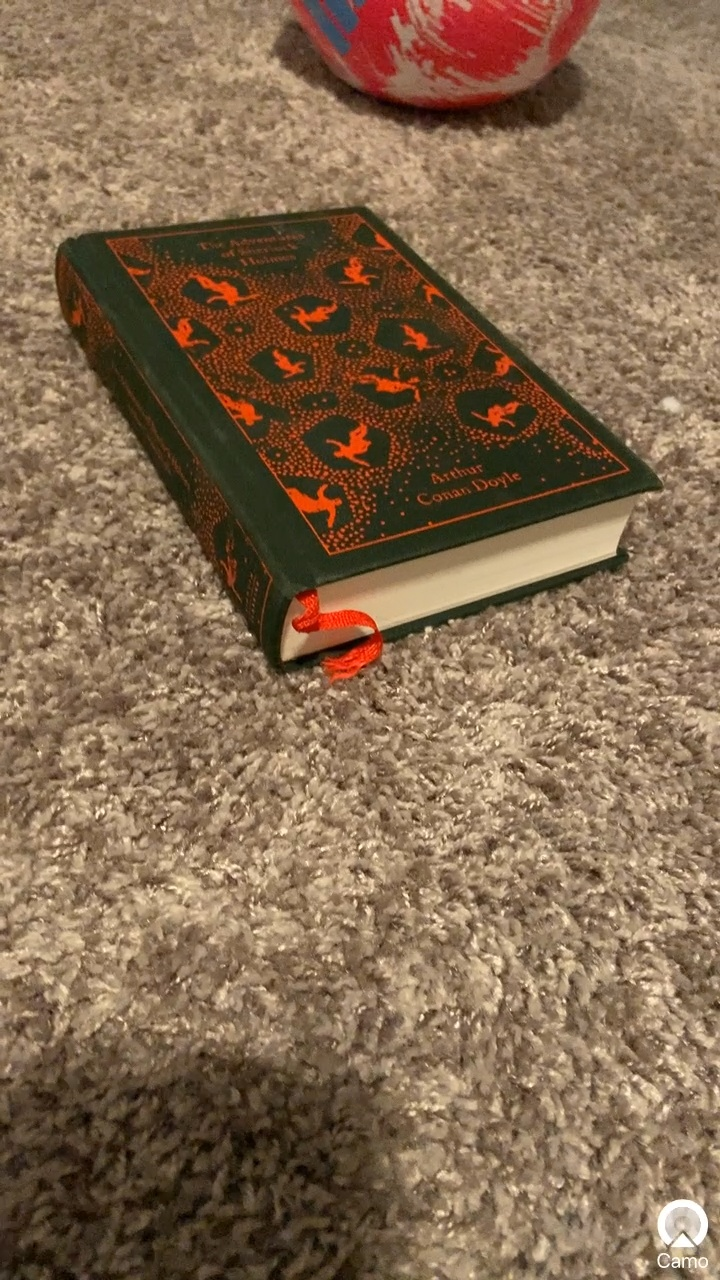Book: (30, 184, 691, 688)
